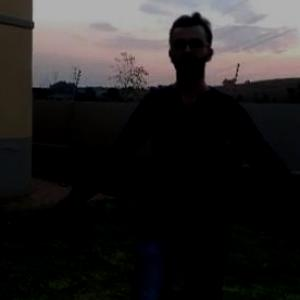land: (48, 14, 299, 299)
